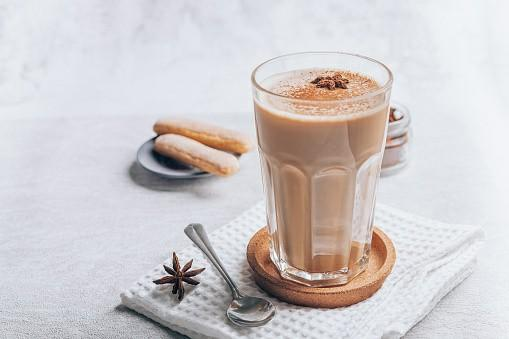Chai: (255, 73, 384, 274)
